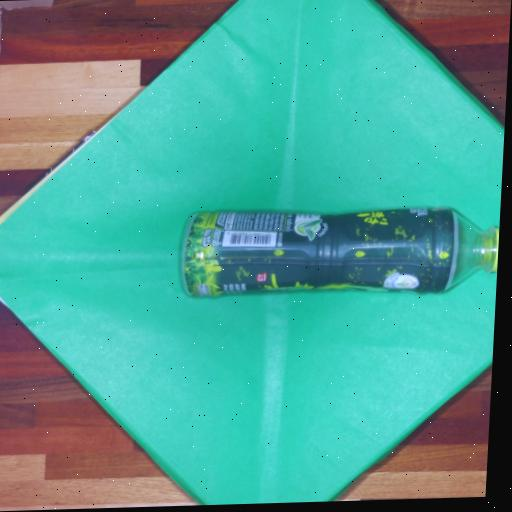bottle: (154, 174, 502, 308)
